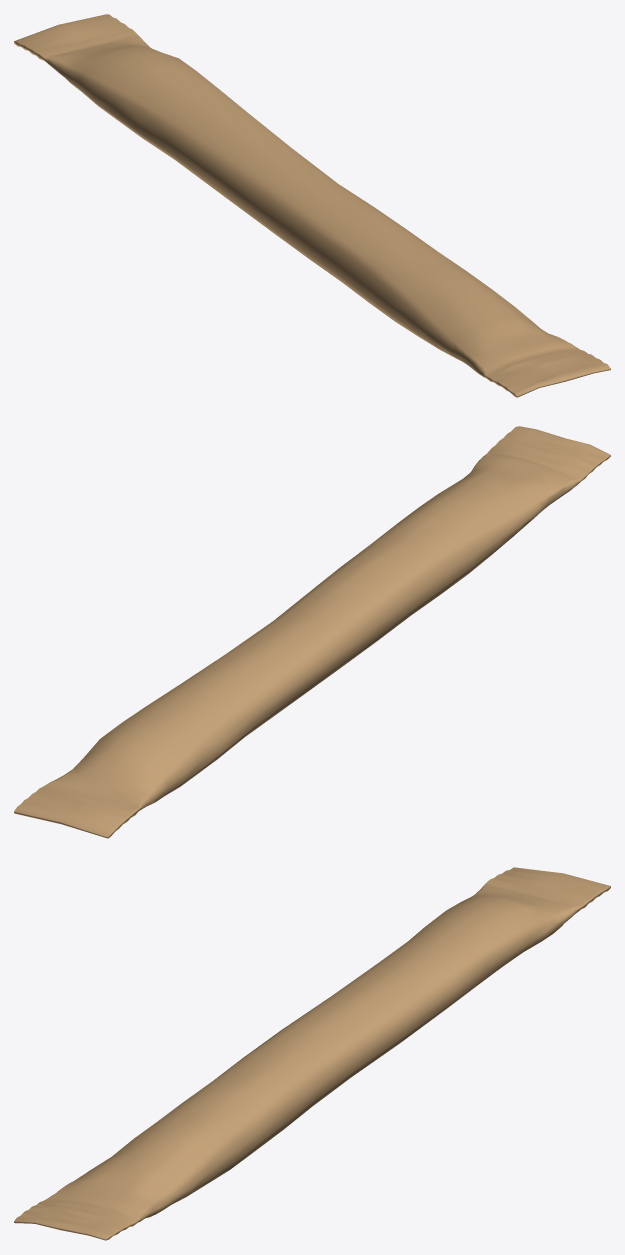
Rendered from consumable_sugarPacket_a01.glb.
3 views of the same model, one above another, from view 1: azimuth 30°, elevation 25°; view 2: azimuth 150°, elevation 25°; view 3: azimuth 330°, elevation 25° (orthographic).
Bounding box in the file's own units: 0.0121 × 0.00686 × 0.1112.
